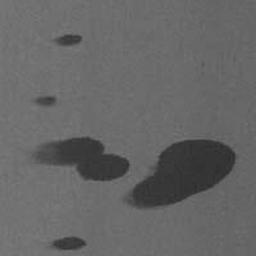Oil spot: (118, 137, 239, 212), (20, 136, 132, 183), (45, 234, 88, 252), (29, 93, 59, 109), (50, 33, 84, 47)
